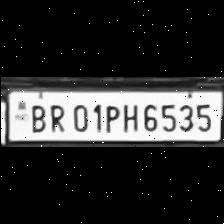0: (68, 100, 90, 132)
1: (90, 102, 104, 134)
3: (176, 100, 194, 132)
5: (193, 100, 213, 132), (158, 100, 176, 132)
6: (138, 100, 158, 132)
B: (26, 100, 46, 132)
H: (118, 100, 138, 132)
P: (98, 101, 119, 133)
R: (44, 100, 66, 132)
